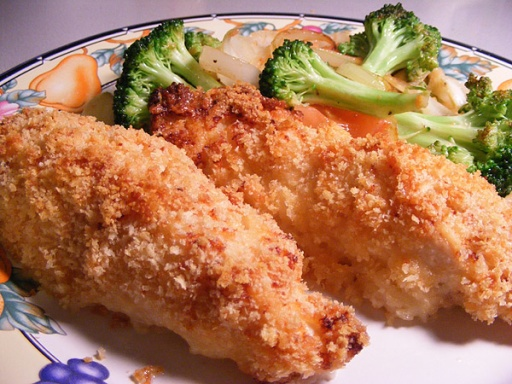background: (0, 1, 410, 230)
